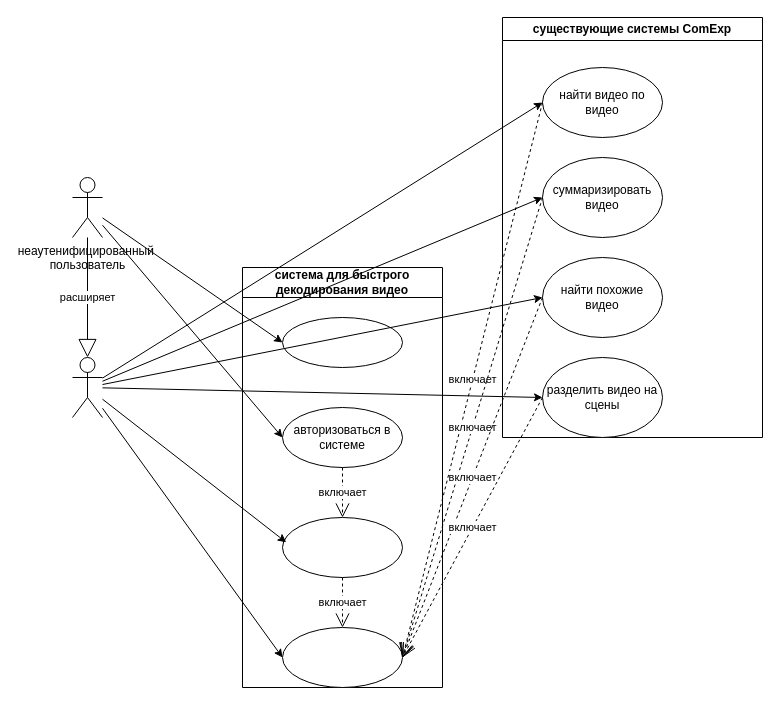
Image size: 780x705. Some labels were removed from this diagram. Here are the shapes that lost their labels. From the top down, the centre of each, then its label:
[342,342]: зарегистрироваться в системе
[87,387]: аутентифицированный пользователь
[342,547]: загрузить видео для декодирования
[342,657]: получить декодированное видео
